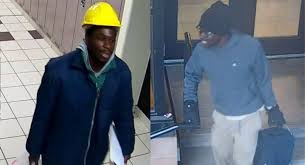Person_wearing_helmet: (77, 0, 123, 40)
